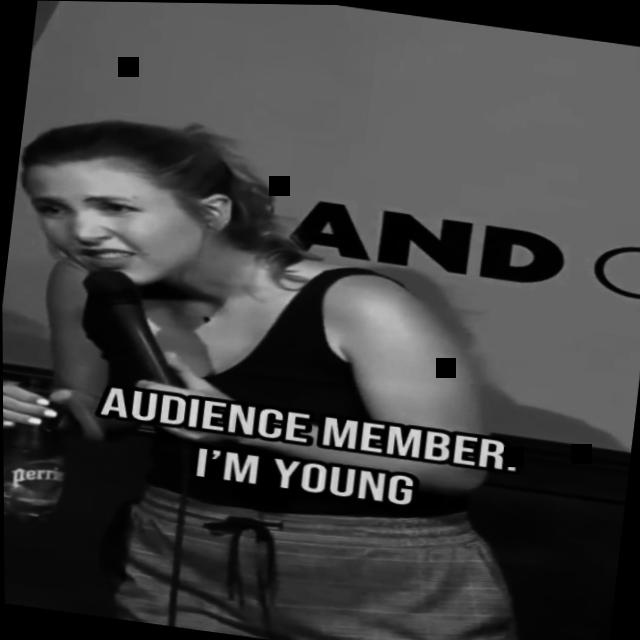NO-Mask: (10, 140, 227, 307)
